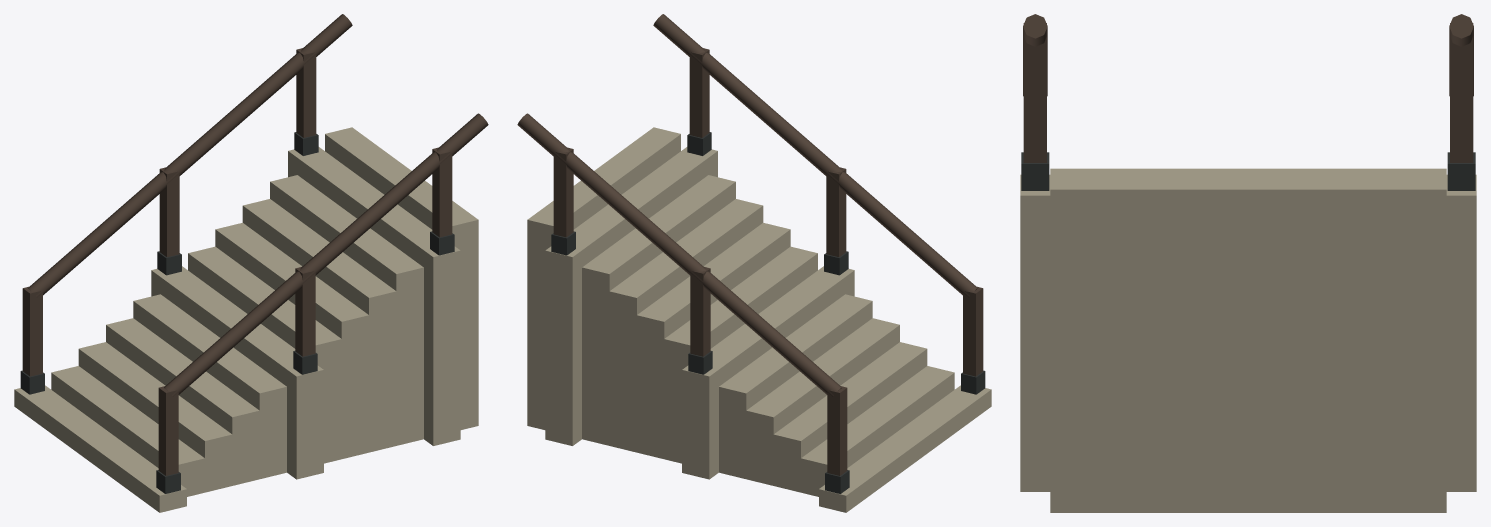
The model's file is siege-stair-flight-lower.glb.
3 views of the same model, side by side, from view 1: azimuth 30°, elevation 25°; view 2: azimuth 150°, elevation 25°; view 3: azimuth 270°, elevation 25° (orthographic). The views are drawn at different scales.
Visible parts, largest first — view 1: Mesh_Step10, Mesh_Step09, Mesh_Step08, Mesh_Step12, Mesh_Step05, Mesh_PostSupport_1_2, Mesh_Step04, Mesh_Step07, Mesh_AscendingHandrail_-1, Mesh_AscendingHandrail_1, Mesh_Step03, Mesh_Step02 (+11 smaller); view 2: Mesh_Step10, Mesh_Step09, Mesh_Step08, Mesh_Step12, Mesh_Step05, Mesh_PostSupport_-1_2, Mesh_Step04, Mesh_Step07, Mesh_AscendingHandrail_1, Mesh_AscendingHandrail_-1, Mesh_Step03, Mesh_Step02 (+11 smaller); view 3: Mesh_Step12, Mesh_PostSupport_-1_2, Mesh_PostSupport_1_2, Mesh_Post_-1_2, Mesh_Post_1_2, Mesh_PostShoe_-1_2, Mesh_PostShoe_1_2, Mesh_AscendingHandrail_-1, Mesh_AscendingHandrail_1.
Boxes of the visible parts, x1=… form: Mesh_Step10: x1=270, y1=175, x2=423, y2=445; Mesh_Step09: x1=242, y1=199, x2=396, y2=452; Mesh_Step08: x1=215, y1=222, x2=368, y2=458; Mesh_Step12: x1=325, y1=127, x2=478, y2=429; Mesh_Step05: x1=133, y1=294, x2=286, y2=478; Mesh_PostSupport_1_2: x1=424, y1=246, x2=460, y2=445; Mesh_Step04: x1=106, y1=318, x2=259, y2=485; Mesh_Step07: x1=188, y1=246, x2=341, y2=463; Mesh_AscendingHandrail_-1: x1=28, y1=14, x2=352, y2=297; Mesh_AscendingHandrail_1: x1=164, y1=113, x2=488, y2=396; Mesh_Step03: x1=78, y1=342, x2=232, y2=492; Mesh_Step02: x1=51, y1=366, x2=204, y2=496; Mesh_Step10: x1=582, y1=175, x2=735, y2=445; Mesh_Step09: x1=609, y1=199, x2=763, y2=452; Mesh_Step08: x1=637, y1=222, x2=790, y2=458; Mesh_Step12: x1=527, y1=127, x2=680, y2=429; Mesh_Step05: x1=719, y1=294, x2=872, y2=478; Mesh_PostSupport_-1_2: x1=545, y1=246, x2=581, y2=445; Mesh_Step04: x1=746, y1=318, x2=899, y2=485; Mesh_Step07: x1=664, y1=246, x2=817, y2=463; Mesh_AscendingHandrail_1: x1=653, y1=14, x2=977, y2=297; Mesh_AscendingHandrail_-1: x1=517, y1=113, x2=841, y2=396; Mesh_Step03: x1=773, y1=342, x2=927, y2=492; Mesh_Step02: x1=801, y1=366, x2=954, y2=496; Mesh_Step12: x1=1050, y1=168, x2=1446, y2=512; Mesh_PostSupport_-1_2: x1=1446, y1=174, x2=1476, y2=491; Mesh_PostSupport_1_2: x1=1020, y1=174, x2=1050, y2=491; Mesh_Post_-1_2: x1=1450, y1=23, x2=1473, y2=162; Mesh_Post_1_2: x1=1023, y1=23, x2=1046, y2=162; Mesh_PostShoe_-1_2: x1=1447, y1=152, x2=1475, y2=190; Mesh_PostShoe_1_2: x1=1021, y1=152, x2=1049, y2=190; Mesh_AscendingHandrail_-1: x1=1449, y1=14, x2=1473, y2=96; Mesh_AscendingHandrail_1: x1=1023, y1=14, x2=1047, y2=96.
Size of the model in its own units: 3.64 by 3.31 by 2.76.
